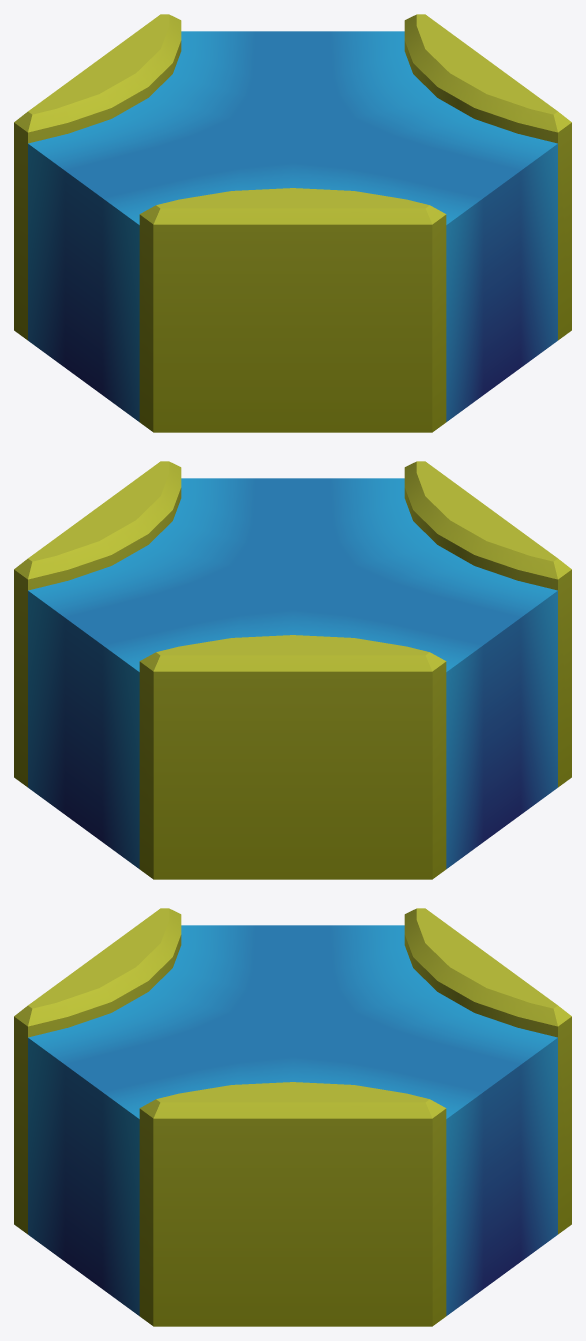
Rendered from hex_river_D.glb.
3 views of the same model, one above another, from view 1: azimuth 30°, elevation 25°; view 2: azimuth 150°, elevation 25°; view 3: azimuth 270°, elevation 25° (orthographic).
Visible parts, largest first — view 1: hex_river_D; view 2: hex_river_D; view 3: hex_river_D.
Part boxes in pixels (x1,y1,x2,y2): hex_river_D: (14,14,571,432); hex_river_D: (14,461,571,879); hex_river_D: (14,908,571,1326).
Bounding box in the file's own units: 2 × 1 × 2.31.
1 material, 1 textured.
